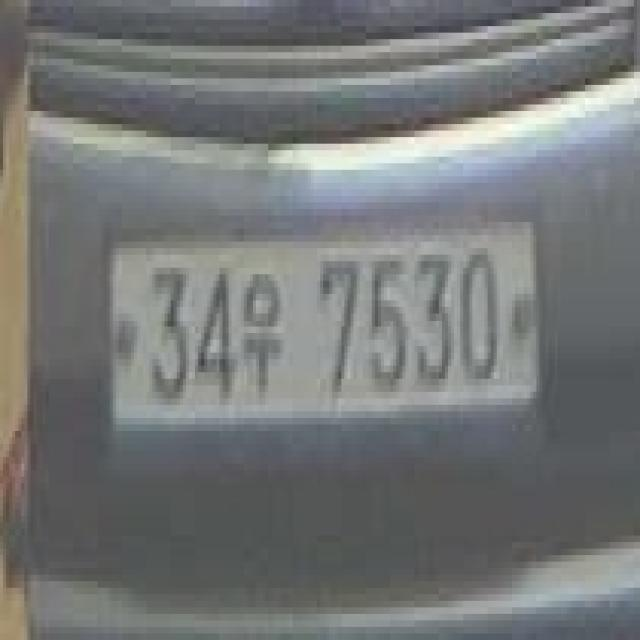0: (457, 242, 497, 385)
3: (146, 248, 189, 398), (415, 248, 457, 385)
4: (198, 268, 238, 392)
5: (366, 248, 405, 392)
7: (317, 255, 360, 392)
license_plate: (104, 216, 546, 444)
u: (238, 262, 283, 398)
